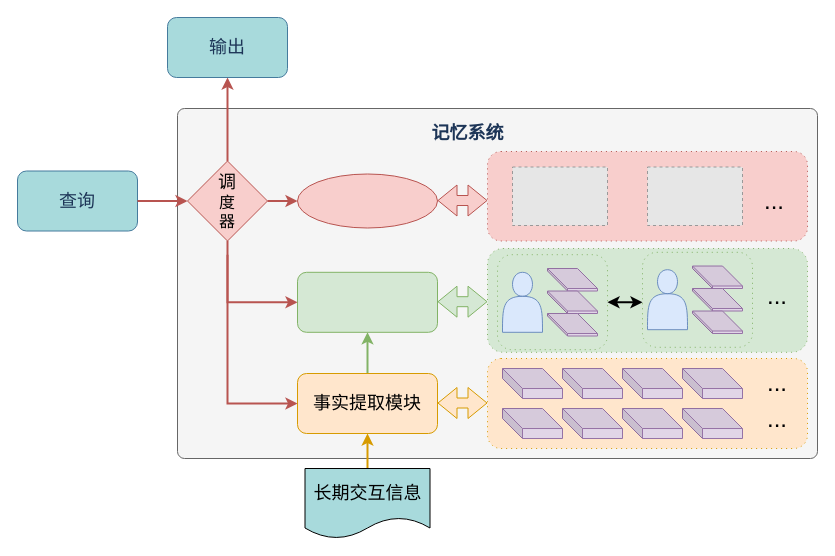
Image size: 835x556. Some labels were removed from this diagram. Grey dashed boxes stand in for pictures. Here are the shapes that lost their labels. From the top down, the centre of each, then its label:
pixel 367 200: 记忆调度队列
pixel 367 301: 记忆链接模块
